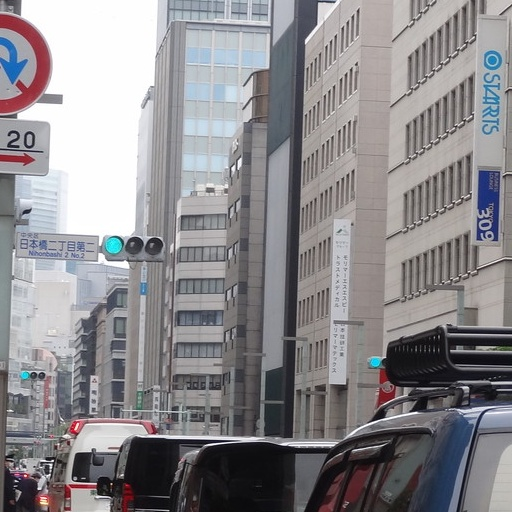Traffic_Signal_Blue: (99, 228, 173, 267)
